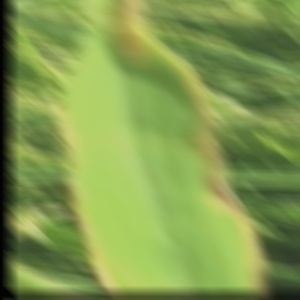Leaf_Blast: (63, 4, 232, 292)
